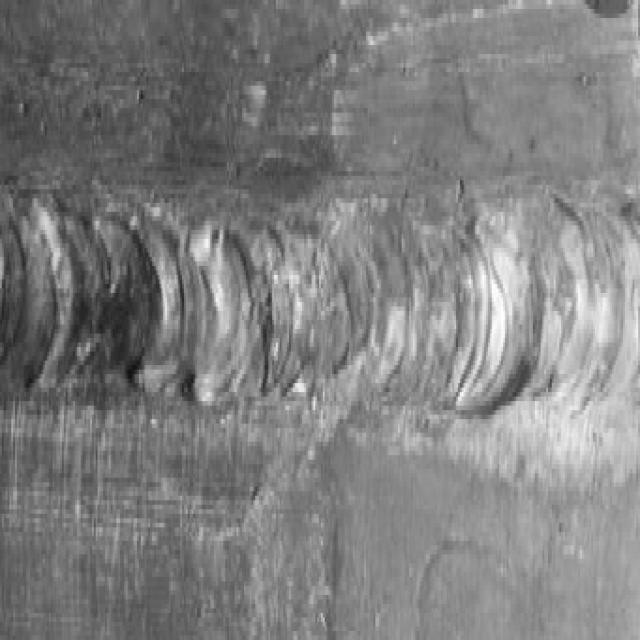Good Welding: (0, 171, 638, 469)
